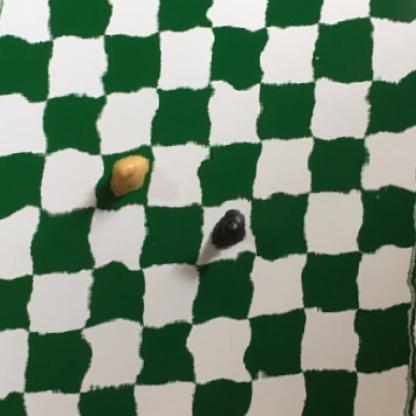black-pawn: (204, 209, 253, 257)
white-pawn: (104, 152, 151, 202)
